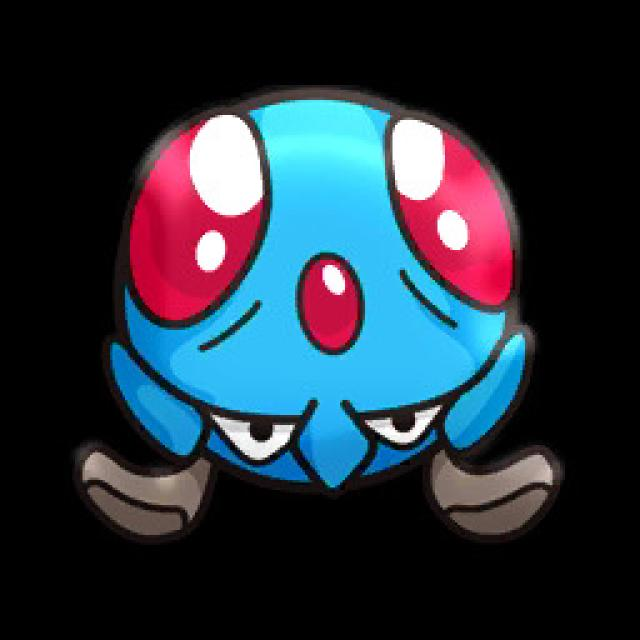Tentacool: (51, 65, 579, 576)
